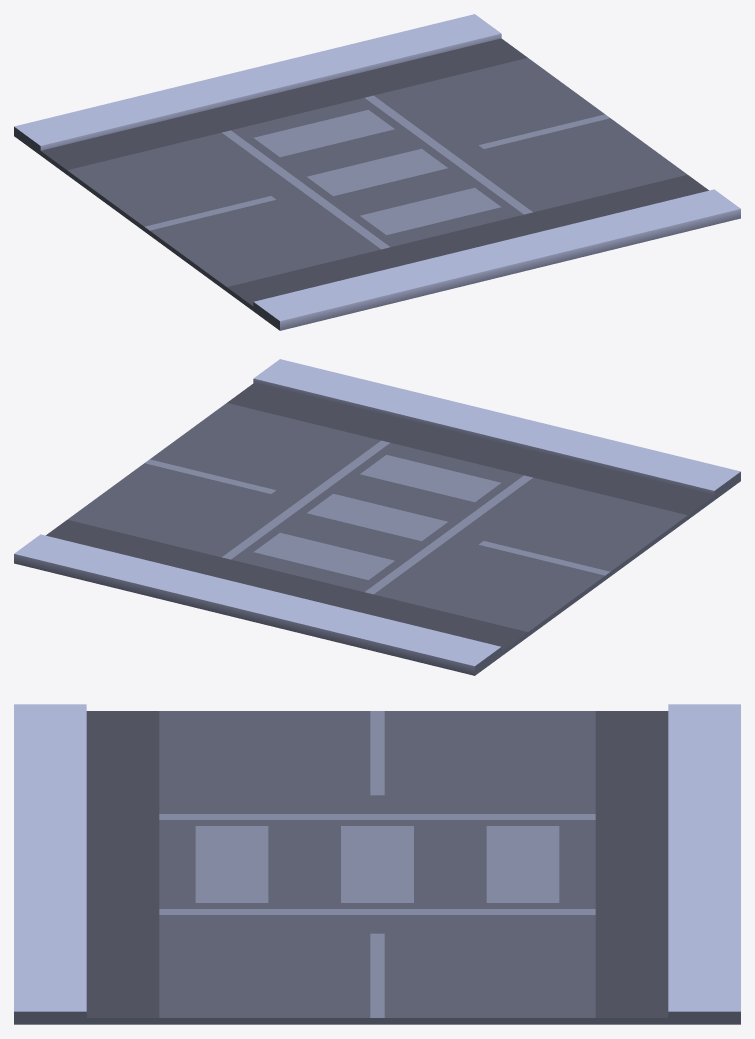
3 renders of one model, top to bottom at view 1: azimuth 30°, elevation 25°; view 2: azimuth 150°, elevation 25°; view 3: azimuth 270°, elevation 25°, orthographic. The views are drawn at different scales.
Parts seen in each view (by area): view 1: road-crossing; view 2: road-crossing; view 3: road-crossing.
Part boxes in pixels (x1,y1,x2,y2): road-crossing: [14, 14, 740, 330]; road-crossing: [14, 359, 740, 675]; road-crossing: [14, 704, 740, 1024].
Size of the model in its own units: 10.68 by 0.2136 by 10.68.
Materials: 1 (1 with a texture image).
